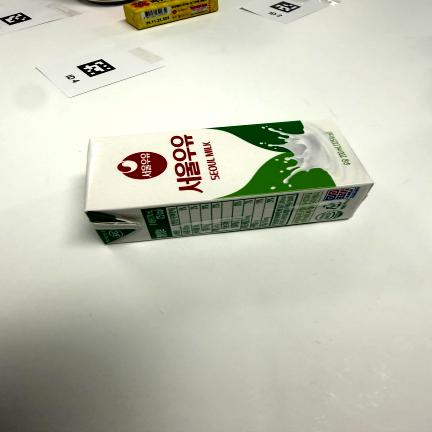milk_green: (84, 118, 374, 245)
